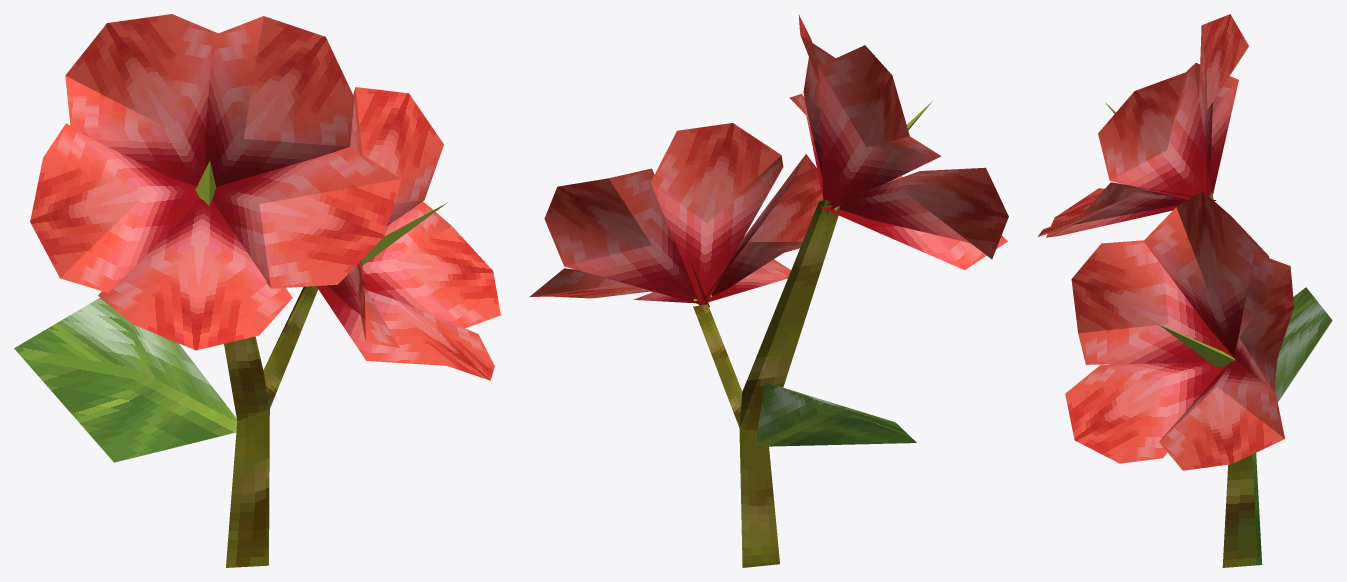
Rendered from OTRA FLOR.obj.
3 views of the same model, side by side, from view 1: azimuth 30°, elevation 25°; view 2: azimuth 150°, elevation 25°; view 3: azimuth 270°, elevation 25° (orthographic). The views are drawn at different scales.
Parts seen in each view (by area): view 1: gFlrHibis; view 2: gFlrHibis; view 3: gFlrHibis.
Boxes of the visible parts, x1,y1,x2,y2 form: gFlrHibis: [14, 14, 500, 567]; gFlrHibis: [529, 14, 1008, 567]; gFlrHibis: [1037, 14, 1332, 567].
Size of the model in its own units: 3.8 by 4.35 by 2.34.
